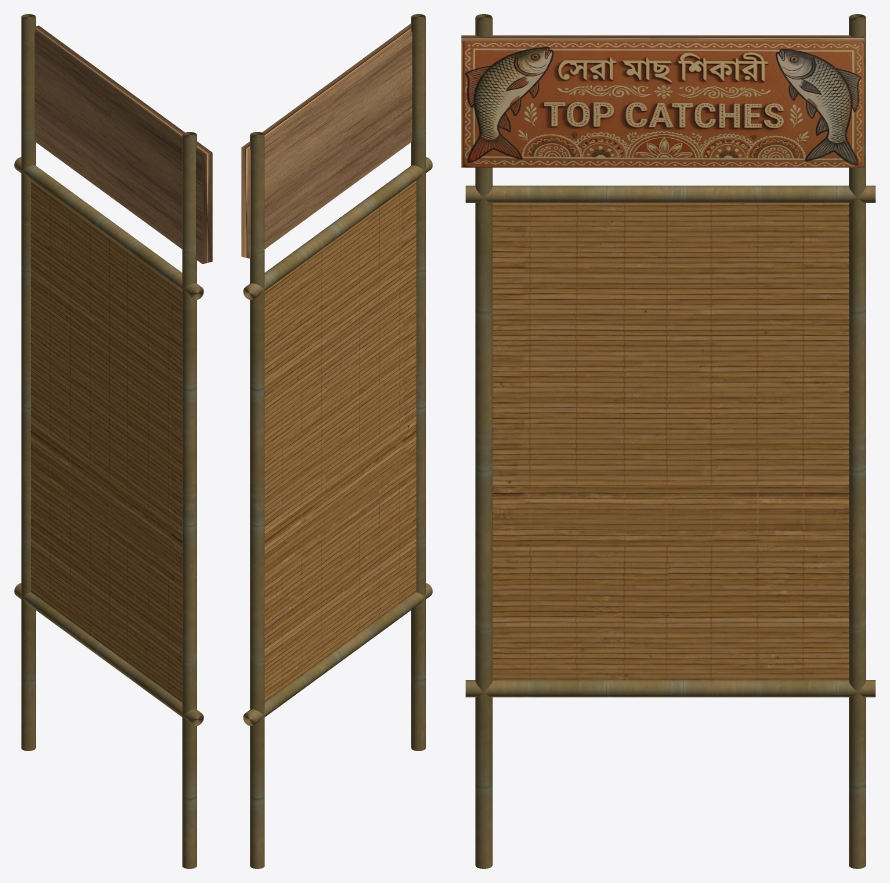
File: leaderboard.glb
The picture shows the model from 3 angles, left to right: view 1: azimuth 30°, elevation 25°; view 2: azimuth 150°, elevation 25°; view 3: azimuth 270°, elevation 25°; orthographic projection. The views are drawn at different scales.
Visible parts, largest first — view 1: Plane.001, Cube.001, Cylinder.004, Cylinder.005; view 2: Plane.001, Cylinder.004, Cube.001, Cylinder.005; view 3: Plane.001, Cube.001, Cylinder.004, Cylinder.005.
Boxes of the visible parts, left/top/right/bottom form: Plane.001: left=31, top=181, right=182, bottom=702; Cube.001: left=34, top=25, right=212, bottom=263; Cylinder.004: left=21, top=14, right=196, bottom=868; Cylinder.005: left=14, top=157, right=203, bottom=725; Plane.001: left=264, top=180, right=416, bottom=702; Cylinder.004: left=250, top=14, right=425, bottom=868; Cube.001: left=241, top=23, right=412, bottom=258; Cylinder.005: left=243, top=157, right=432, bottom=725; Plane.001: left=492, top=203, right=848, bottom=680; Cube.001: left=461, top=35, right=864, bottom=167; Cylinder.004: left=475, top=14, right=865, bottom=868; Cylinder.005: left=465, top=185, right=875, bottom=697.
Size of the model in its own units: 0.3404 by 12 by 5.32.
Materials: 4 (4 with a texture image).
